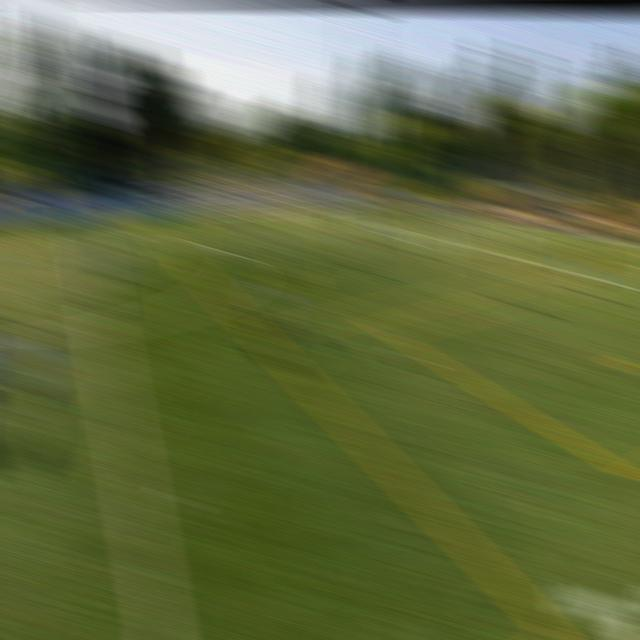bigarea_top_inner: (309, 205, 336, 220)
bottom_arc_area_intersection: (478, 243, 511, 265)
halfcircle_bottom: (85, 314, 123, 341)
halfcircle_top: (71, 233, 104, 254)
midline_top_intersection: (69, 210, 97, 226)
smallarea_bottom_inner: (582, 241, 610, 257)
smallarea_bottom_outter: (607, 237, 638, 252)
smallarea_top_outter: (455, 211, 481, 227)
top_arc_area_intersection: (370, 219, 394, 233)
